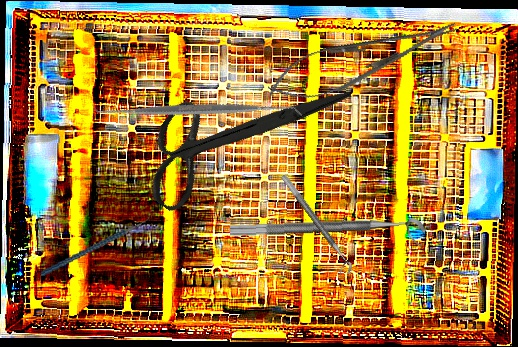Chopper: (34, 209, 159, 277)
Fixation Ring: (272, 173, 357, 280), (229, 217, 426, 253)
Iris Scissors: (123, 14, 352, 258)
Needle Holder: (261, 5, 465, 114)
Spatula Surgical: (90, 4, 304, 216)
